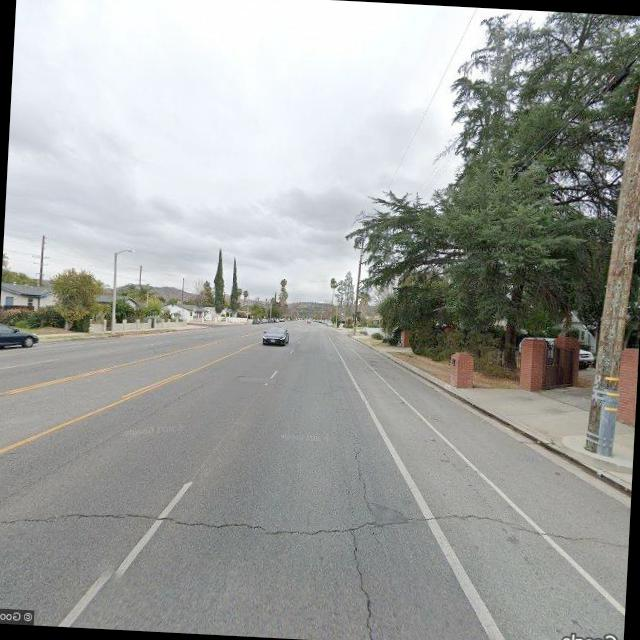crack: (0, 505, 335, 548), (407, 504, 630, 552), (344, 529, 390, 640), (344, 424, 378, 515)
